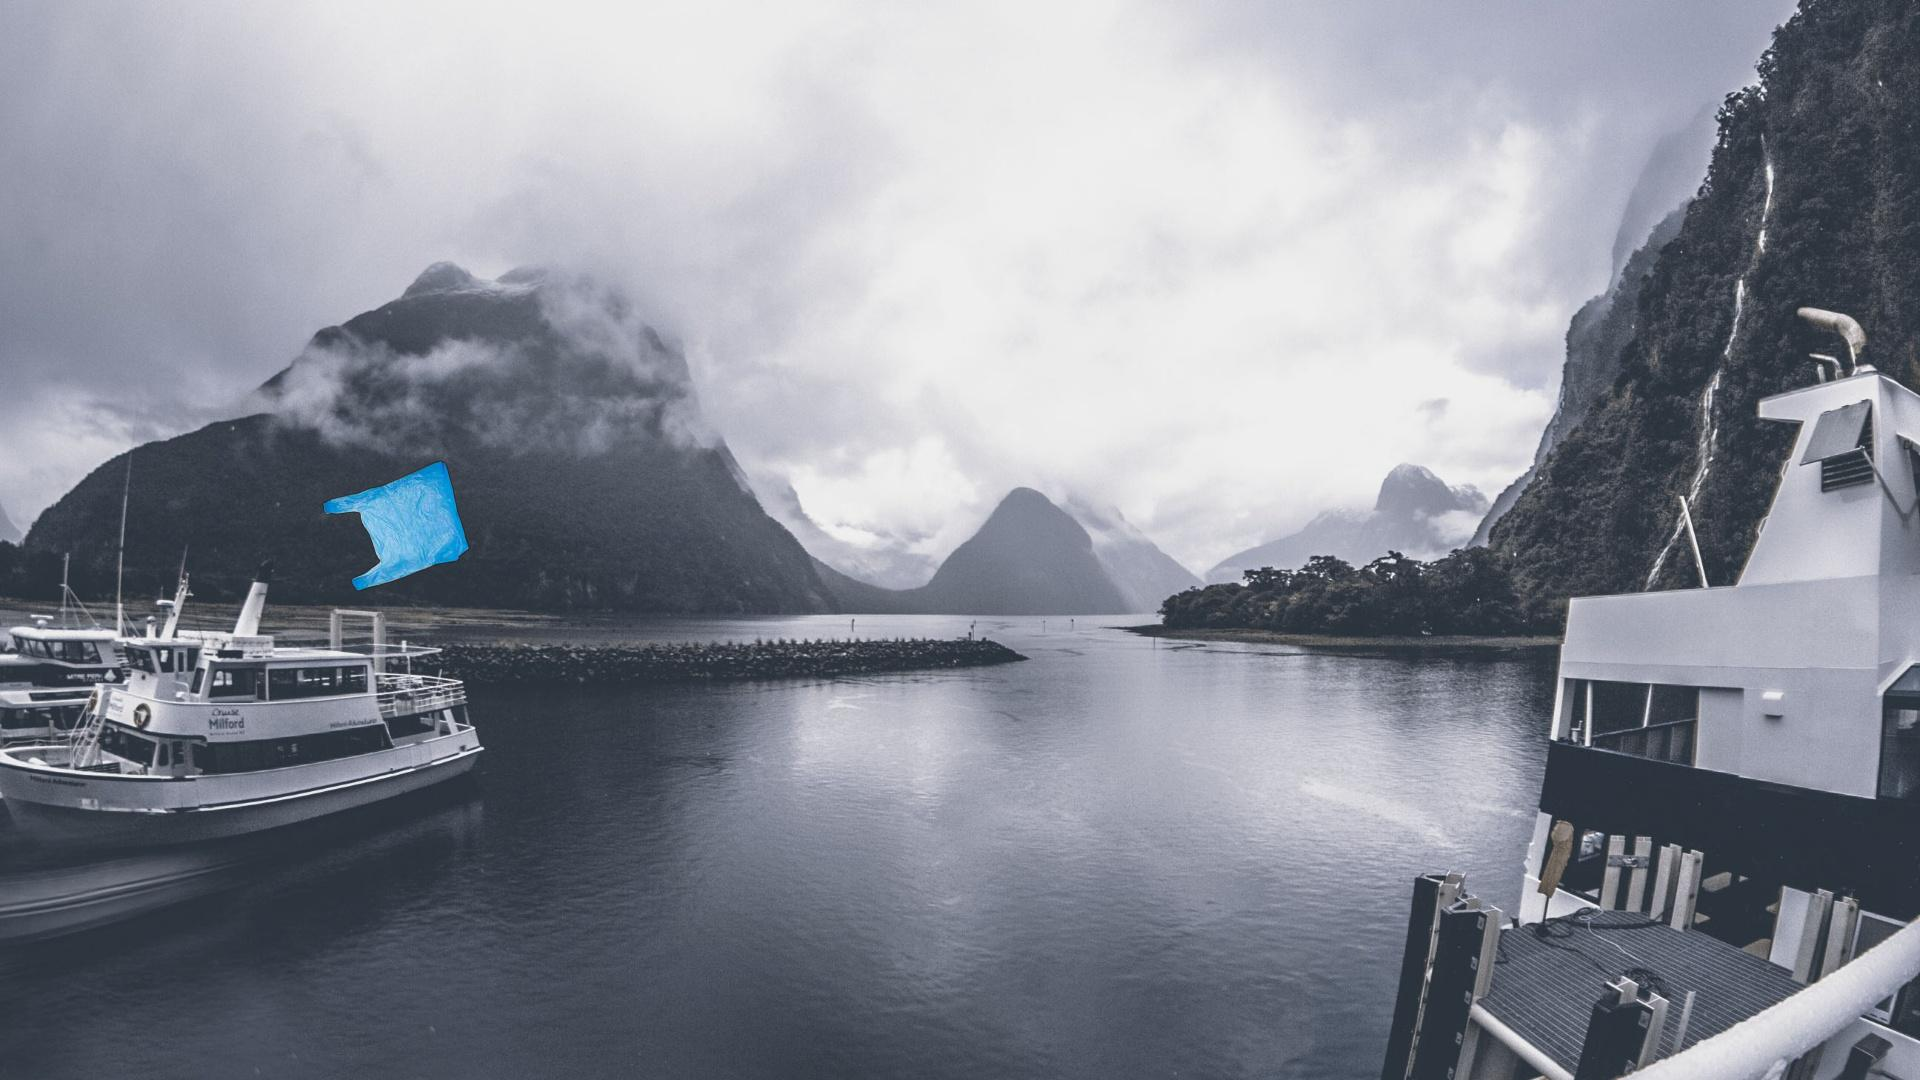plastic-bag: (319, 458, 472, 593)
